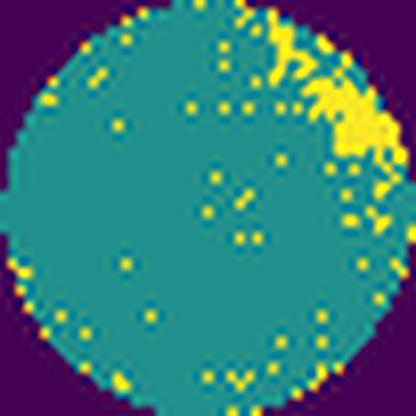Loc: (296, 78, 408, 195), (268, 8, 318, 87)
